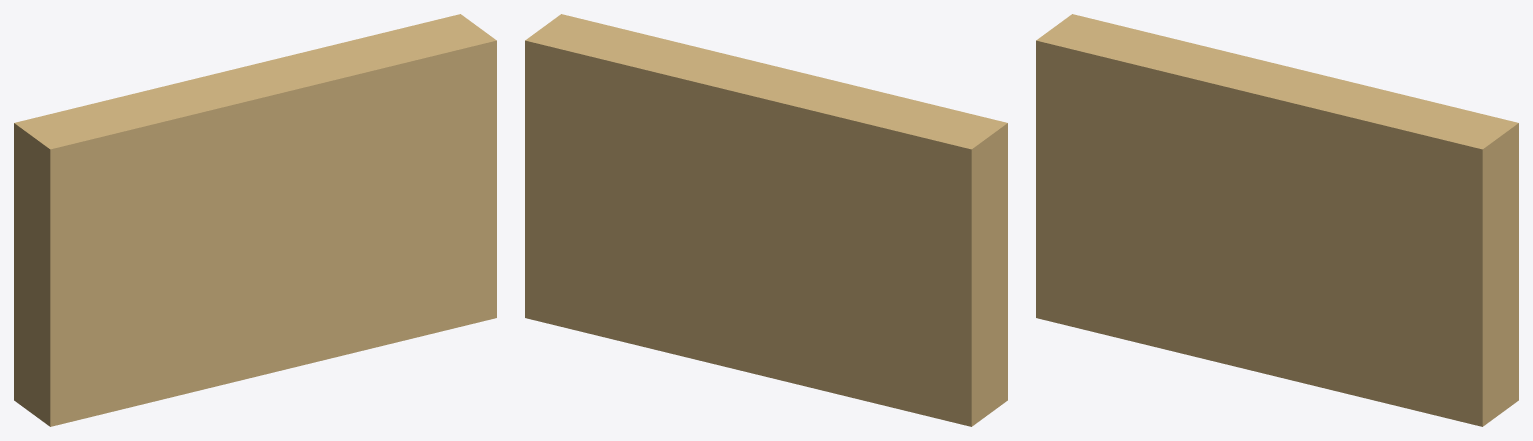
3 renders of one model, left to right at view 1: azimuth 30°, elevation 25°; view 2: azimuth 150°, elevation 25°; view 3: azimuth 330°, elevation 25°, orthographic.
Parts seen in each view (by area): view 1: GF-L10-BLK-EDGE-REAR-011; view 2: GF-L10-BLK-EDGE-REAR-011; view 3: GF-L10-BLK-EDGE-REAR-011.
Part boxes in pixels (x1,y1,x2,y2): GF-L10-BLK-EDGE-REAR-011: [14, 14, 496, 426]; GF-L10-BLK-EDGE-REAR-011: [525, 14, 1007, 426]; GF-L10-BLK-EDGE-REAR-011: [1036, 14, 1518, 426].
Size of the model in its own units: 0.32 by 0.19 by 0.045.
